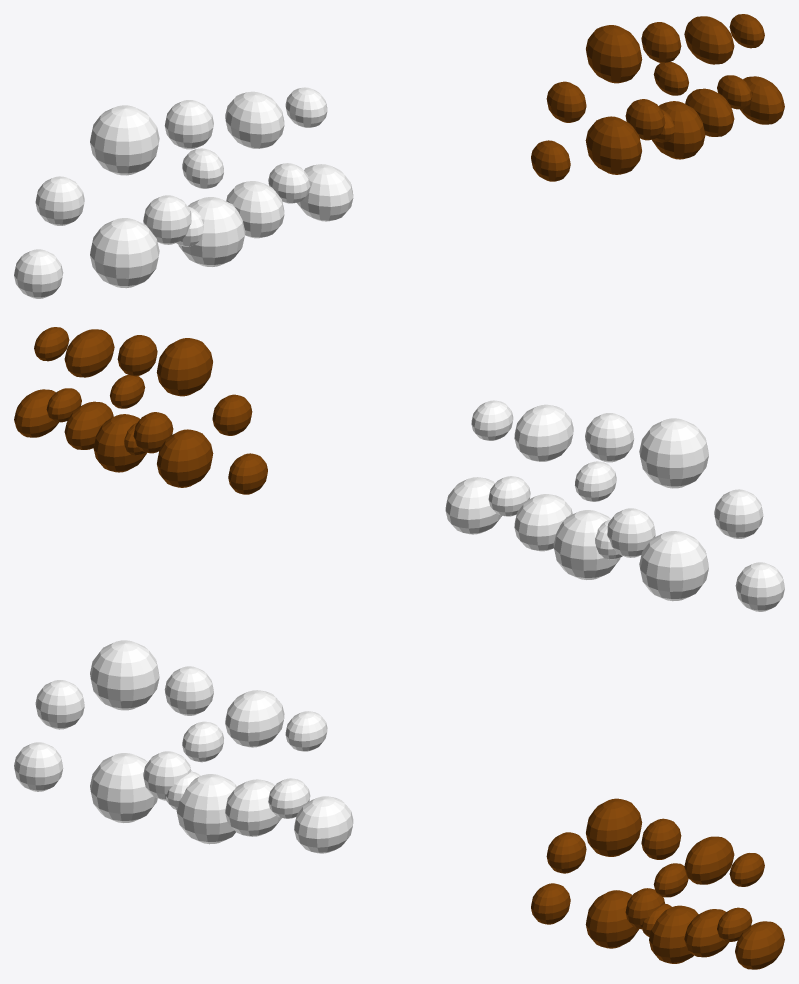
The model's file is curryandrice.fbx.
The picture shows the model from 3 angles, top to bottom: view 1: azimuth 30°, elevation 25°; view 2: azimuth 150°, elevation 25°; view 3: azimuth 330°, elevation 25°; orthographic projection.
Visible parts, largest first — view 1: 球, 球_ncl1_1, 球_ncl1_6, 球_ncl1_7, 球_ncl1_15, 球_ncl1_14, 球_ncl1_8, 球_ncl1_13, 球_ncl1_3, 球_ncl1_2, 球_ncl1_5, 球_ncl1_20 (+15 smaller); view 2: 球, 球_ncl1_1, 球_ncl1_6, 球_ncl1_7, 球_ncl1_15, 球_ncl1_14, 球_ncl1_8, 球_ncl1_13, 球_ncl1_3, 球_ncl1_2, 球_ncl1_5, 球_ncl1_20 (+15 smaller); view 3: 球, 球_ncl1_1, 球_ncl1_6, 球_ncl1_7, 球_ncl1_13, 球_ncl1_14, 球_ncl1_8, 球_ncl1_15, 球_ncl1_20, 球_ncl1_2, 球_ncl1_3, 球_ncl1_5 (+14 smaller).
Part boxes in pixels (bbox=[...]): 球: bbox=[90, 105, 159, 175]; 球_ncl1_1: bbox=[90, 218, 159, 288]; 球_ncl1_6: bbox=[178, 197, 245, 266]; 球_ncl1_7: bbox=[225, 91, 284, 148]; 球_ncl1_15: bbox=[585, 116, 641, 174]; 球_ncl1_14: bbox=[586, 25, 642, 83]; 球_ncl1_8: bbox=[226, 181, 284, 238]; 球_ncl1_13: bbox=[297, 164, 353, 221]; 球_ncl1_3: bbox=[35, 176, 84, 225]; 球_ncl1_2: bbox=[14, 249, 63, 298]; 球_ncl1_5: bbox=[164, 100, 213, 149]; 球_ncl1_20: bbox=[652, 101, 705, 159]; 球: bbox=[639, 418, 708, 488]; 球_ncl1_1: bbox=[639, 531, 708, 601]; 球_ncl1_6: bbox=[553, 510, 620, 579]; 球_ncl1_7: bbox=[514, 404, 573, 461]; 球_ncl1_15: bbox=[157, 429, 213, 487]; 球_ncl1_14: bbox=[156, 338, 212, 396]; 球_ncl1_8: bbox=[514, 494, 572, 551]; 球_ncl1_13: bbox=[445, 477, 501, 534]; 球_ncl1_3: bbox=[714, 489, 763, 538]; 球_ncl1_2: bbox=[735, 562, 784, 611]; 球_ncl1_5: bbox=[585, 413, 634, 462]; 球_ncl1_20: bbox=[93, 414, 146, 472]; 球: bbox=[90, 640, 159, 710]; 球_ncl1_1: bbox=[90, 753, 157, 822]; 球_ncl1_6: bbox=[176, 774, 236, 844]; 球_ncl1_7: bbox=[225, 690, 284, 747]; 球_ncl1_13: bbox=[294, 796, 353, 853]; 球_ncl1_14: bbox=[586, 798, 642, 856]; 球_ncl1_8: bbox=[225, 779, 281, 836]; 球_ncl1_15: bbox=[585, 890, 639, 948]; 球_ncl1_20: bbox=[649, 905, 698, 963]; 球_ncl1_2: bbox=[14, 742, 63, 791]; 球_ncl1_3: bbox=[35, 680, 84, 729]; 球_ncl1_5: bbox=[164, 666, 213, 715].
Bounding box in the file's own units: 177 × 40.47 × 14.14.
